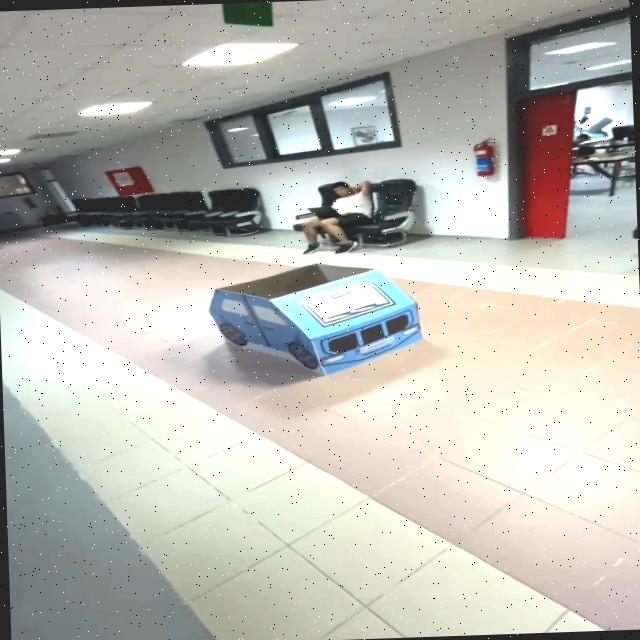blue_car: (195, 251, 450, 387)
